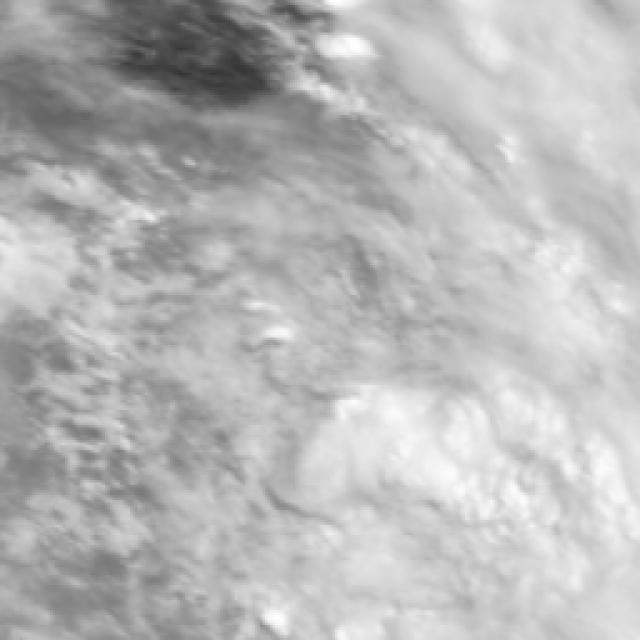CB: (391, 377, 636, 635)
